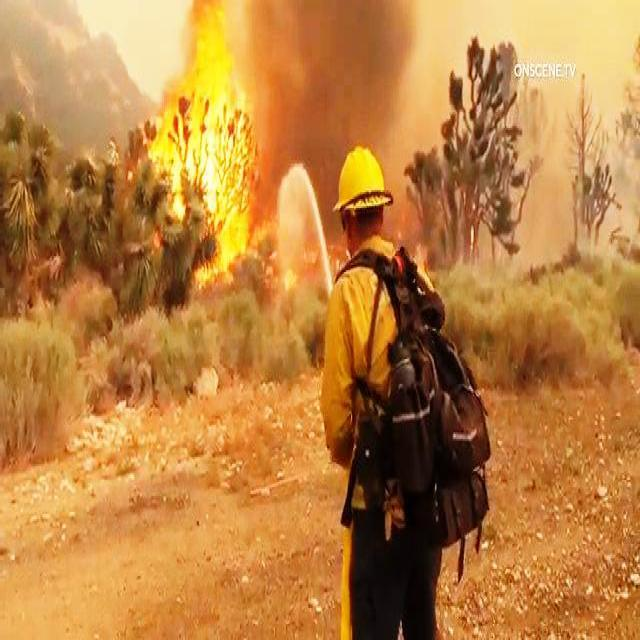Fire: (148, 0, 260, 281)
Smoke: (268, 0, 439, 156)
